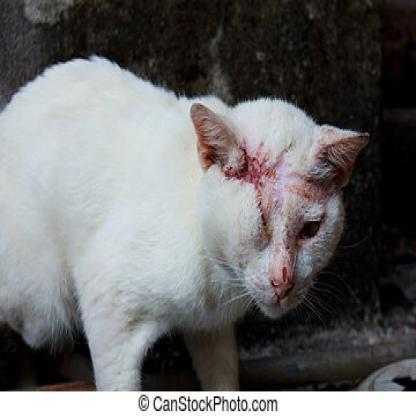cat: (4, 49, 381, 396)
injured: (198, 109, 290, 207)
